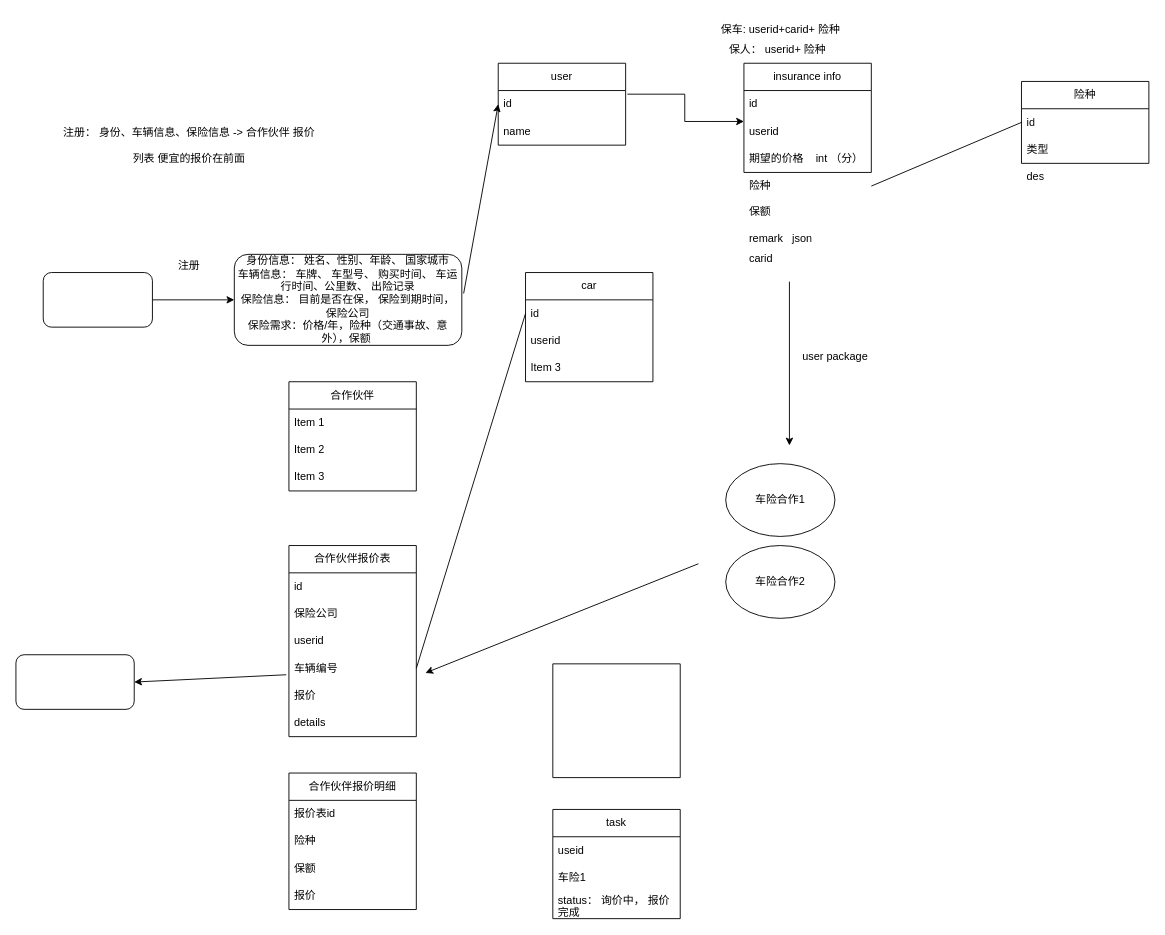
Image size: 1165x935. Some labels were removed from this diagram. Here are the shapes that lost their labels. From the top down, the centre of each, then its label:
pixel 97 299: 用户
pixel 74 681: 保险信息列表
pixel 616 720: 获取合作方报价
